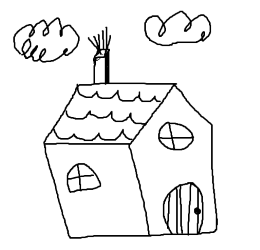closed_window: (67, 163, 100, 193), (158, 122, 193, 150)
clouds: (9, 16, 82, 65), (142, 7, 211, 48)
door: (157, 181, 209, 239)
roof: (43, 82, 212, 144)
smoking_chimney: (84, 23, 117, 88)
wall: (126, 81, 221, 241)
